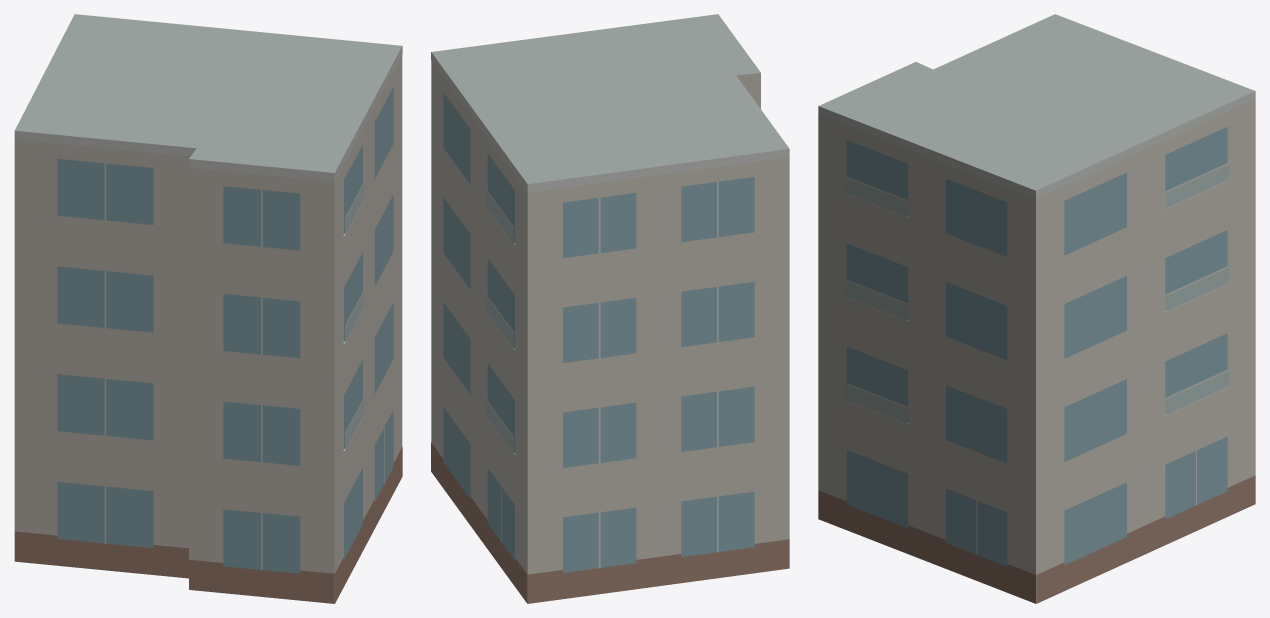
Rendered from survey-upis-32999339.glb.
3 renders of one model, left to right at view 1: azimuth 30°, elevation 25°; view 2: azimuth 150°, elevation 25°; view 3: azimuth 270°, elevation 25°, orthographic. The views are drawn at different scales.
Visible parts, largest first — view 1: survey-upis-32999339.tmp; view 2: survey-upis-32999339.tmp; view 3: survey-upis-32999339.tmp.
Boxes of the visible parts, x1,y1,x2,y2 form: survey-upis-32999339.tmp: (14,14,402,603); survey-upis-32999339.tmp: (431,14,789,603); survey-upis-32999339.tmp: (818,14,1255,603).
Size of the model in its own units: 11.11 by 12.1 by 11.61.
